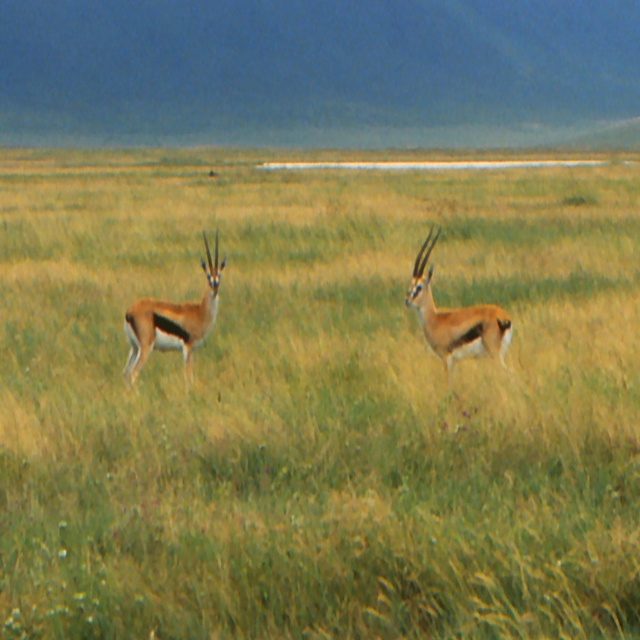Deer: (404, 223, 513, 383), (123, 227, 226, 394)
